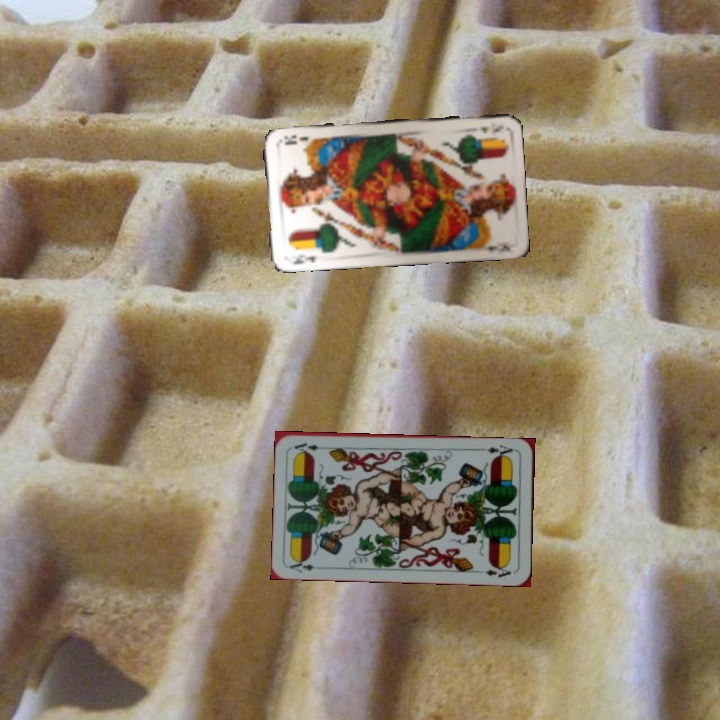EA: (286, 555, 326, 575), (483, 441, 518, 461)
EK: (288, 250, 318, 267), (475, 121, 506, 135)
